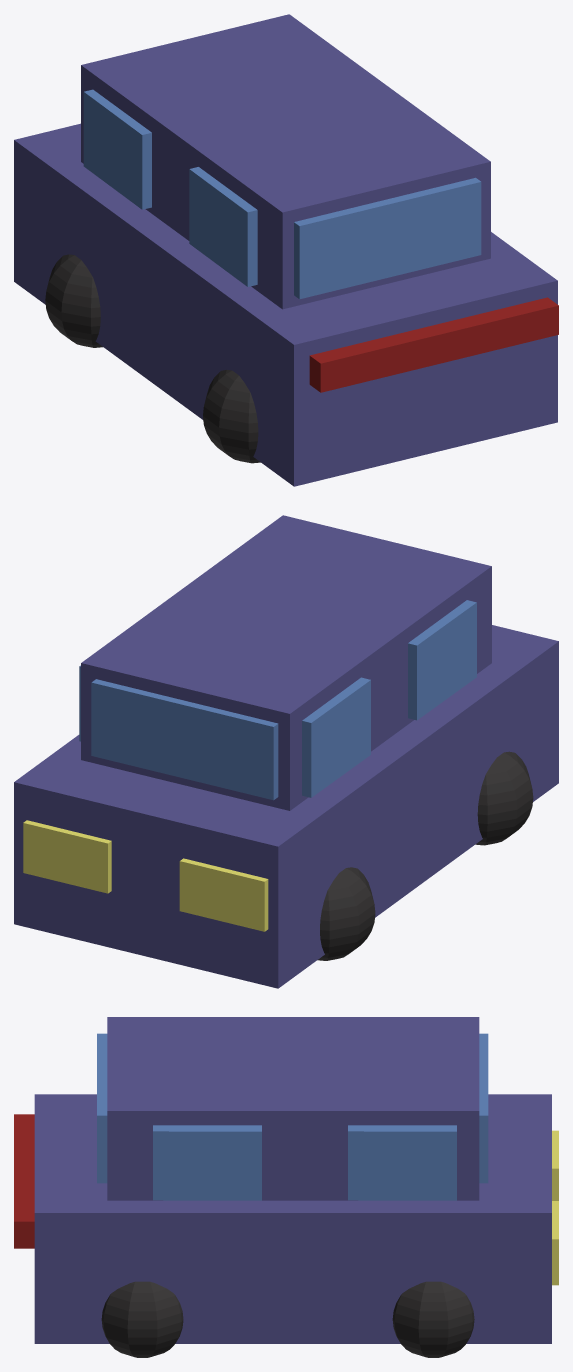
File: car4.fbx
3 renders of one model, top to bottom at view 1: azimuth 30°, elevation 25°; view 2: azimuth 150°, elevation 25°; view 3: azimuth 270°, elevation 25°, orthographic. The views are drawn at different scales.
Visible parts, largest first — view 1: Cube.009, Cube.010, Cube.016, Cube.019, Cube.013, Cube.014, Sphere.008, Sphere.009; view 2: Cube.009, Cube.010, Cube.015, Cube.013, Cube.014, Cube.018, Cube.017, Sphere.009, Sphere.008; view 3: Cube.009, Cube.010, Cube.011, Cube.012, Sphere.006, Sphere.007, Cube.019, Cube.016, Cube.015, Cube.017, Cube.018.
Boxes of the visible parts, x1=… form: Cube.009: x1=14, y1=123, x2=557, y2=486; Cube.010: x1=81, y1=14, x2=490, y2=309; Cube.016: x1=294, y1=177, x2=481, y2=299; Cube.019: x1=309, y1=297, x2=558, y2=392; Cube.013: x1=83, y1=89, x2=151, y2=209; Cube.014: x1=189, y1=167, x2=257, y2=286; Sphere.008: x1=203, y1=369, x2=260, y2=463; Sphere.009: x1=45, y1=254, x2=102, y2=347; Cube.009: x1=14, y1=625, x2=558, y2=988; Cube.010: x1=81, y1=515, x2=491, y2=810; Cube.015: x1=91, y1=679, x2=278, y2=800; Cube.013: x1=302, y1=677, x2=370, y2=797; Cube.014: x1=408, y1=600, x2=476, y2=720; Cube.018: x1=179, y1=858, x2=268, y2=931; Cube.017: x1=23, y1=820, x2=111, y2=893; Sphere.009: x1=317, y1=867, x2=375, y2=960; Sphere.008: x1=475, y1=751, x2=533, y2=845; Cube.009: x1=34, y1=1094, x2=551, y2=1343; Cube.010: x1=107, y1=1017, x2=479, y2=1200; Cube.011: x1=348, y1=1125, x2=456, y2=1200; Cube.012: x1=153, y1=1125, x2=261, y2=1200; Sphere.006: x1=101, y1=1281, x2=183, y2=1357; Sphere.007: x1=392, y1=1281, x2=474, y2=1357; Cube.019: x1=14, y1=1114, x2=34, y2=1248; Cube.016: x1=97, y1=1033, x2=107, y2=1183; Cube.015: x1=479, y1=1033, x2=488, y2=1183; Cube.017: x1=552, y1=1201, x2=558, y2=1285; Cube.018: x1=552, y1=1130, x2=558, y2=1200.
Bounding box in the file's own units: 166 × 132 × 273.
